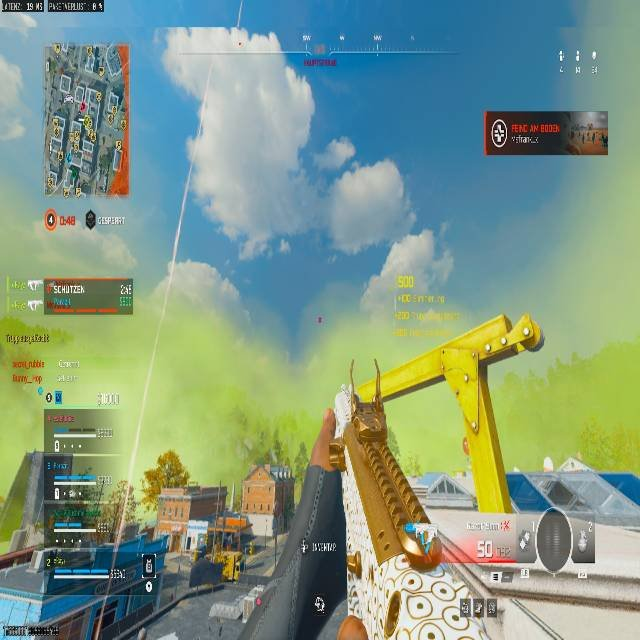player: (227, 519, 258, 576)
